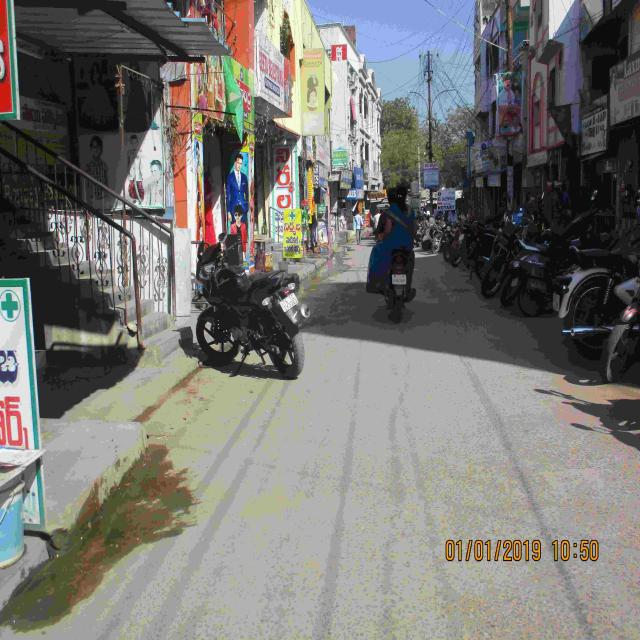plate: (278, 291, 300, 315)
